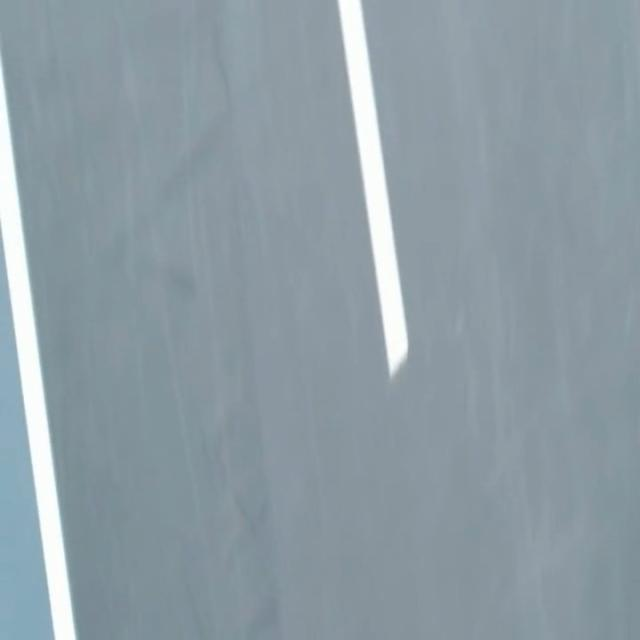center: (338, 0, 408, 378)
left: (0, 53, 76, 639)
